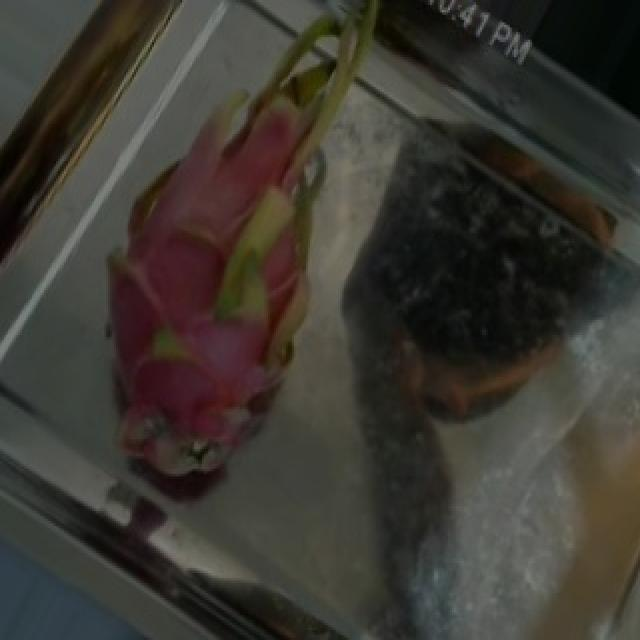fruit: (6, 0, 402, 474)
